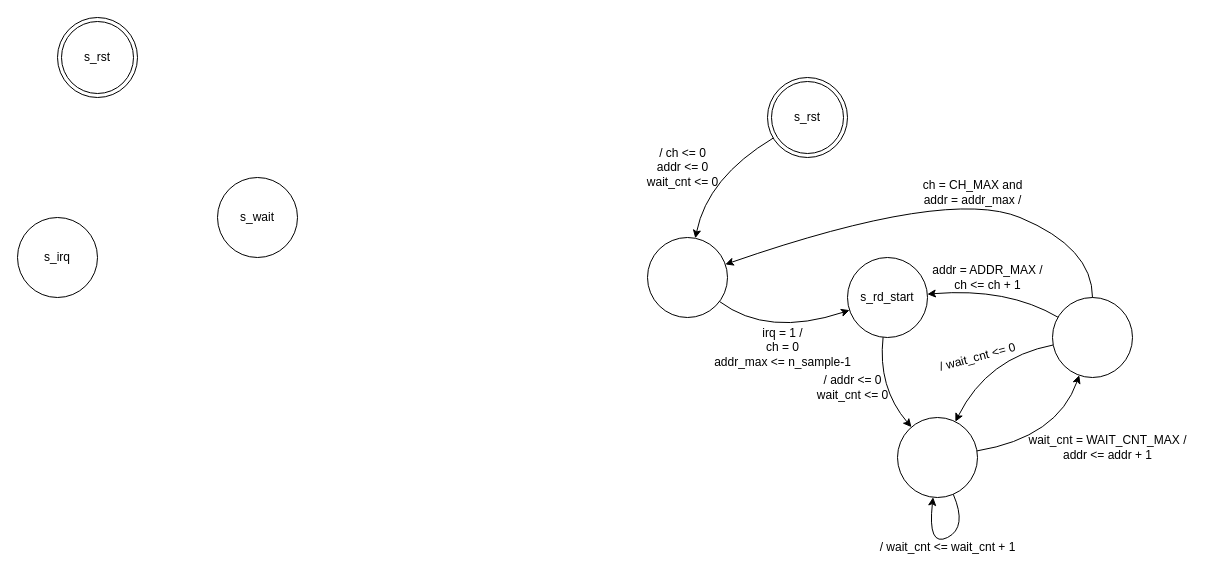
Image size: 1210x575. Some labels were removed from this diagram. Here are the shapes that lost their labels. From the top down, the centre of each, then its label:
the point at 687,277: s_wait_irq
the point at 1092,337: s_rd
the point at 937,457: s_rd_wait
